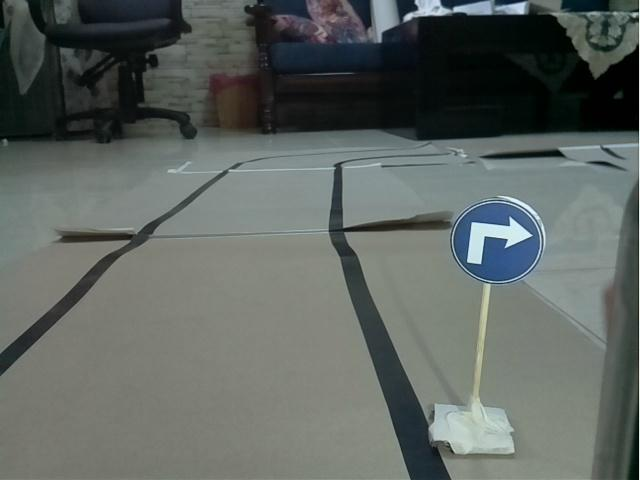turn: (449, 193, 546, 289)
